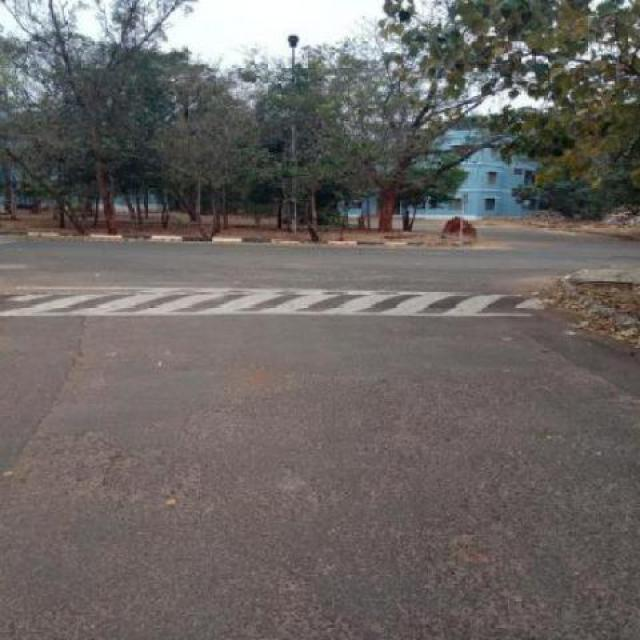Speed Bump: (0, 286, 559, 318)
